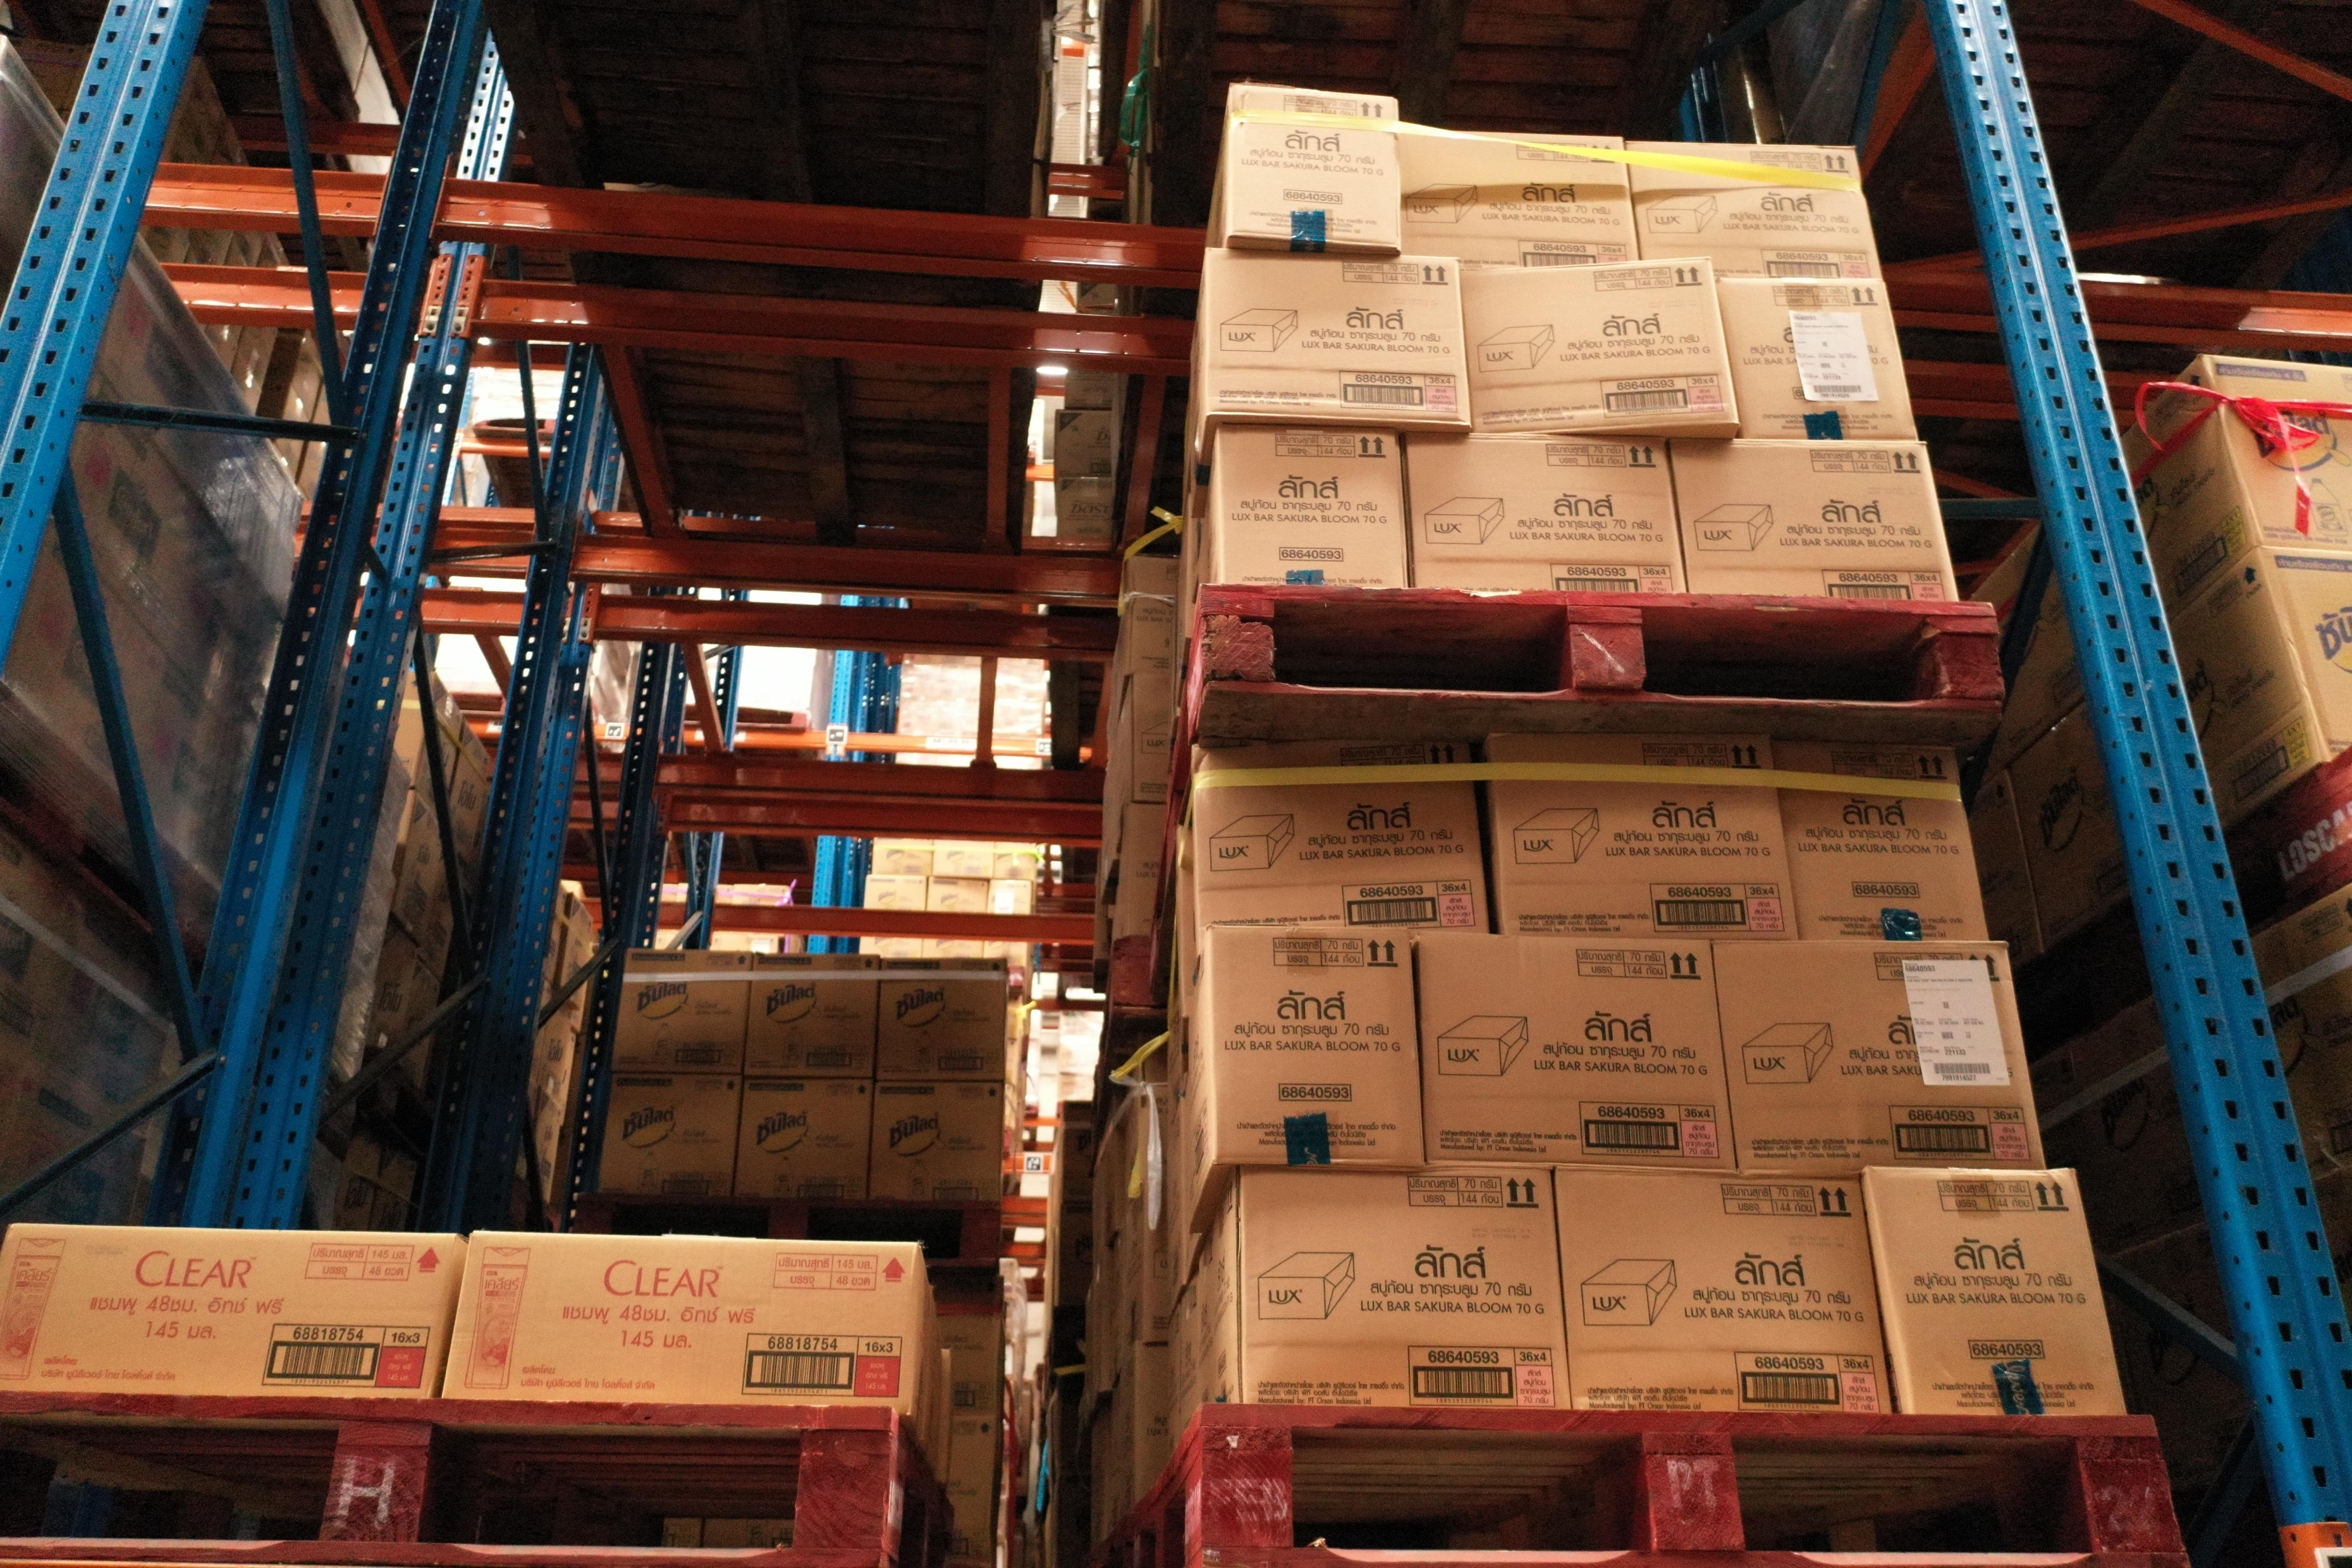-: (436, 1227, 920, 1412), (1549, 1165, 1895, 1419), (1235, 1162, 1573, 1412), (0, 1223, 462, 1403), (1706, 941, 2051, 1174), (1414, 929, 1734, 1174), (1865, 1169, 2130, 1419), (1489, 731, 1799, 943), (1195, 737, 1487, 950), (1207, 924, 1426, 1169), (1200, 245, 1472, 430), (1668, 439, 1963, 605), (1458, 255, 1743, 427), (1402, 432, 1687, 595), (1774, 737, 1990, 948), (1622, 138, 1886, 283), (1403, 124, 1641, 271), (1715, 280, 1920, 444), (1214, 423, 1412, 591), (1227, 79, 1403, 248), (2203, 352, 2352, 549), (2259, 544, 2352, 756)
2: (597, 1073, 745, 1199), (612, 945, 752, 1076), (745, 950, 882, 1081), (735, 1078, 875, 1206), (878, 959, 1008, 1085), (868, 1083, 1006, 1200)
